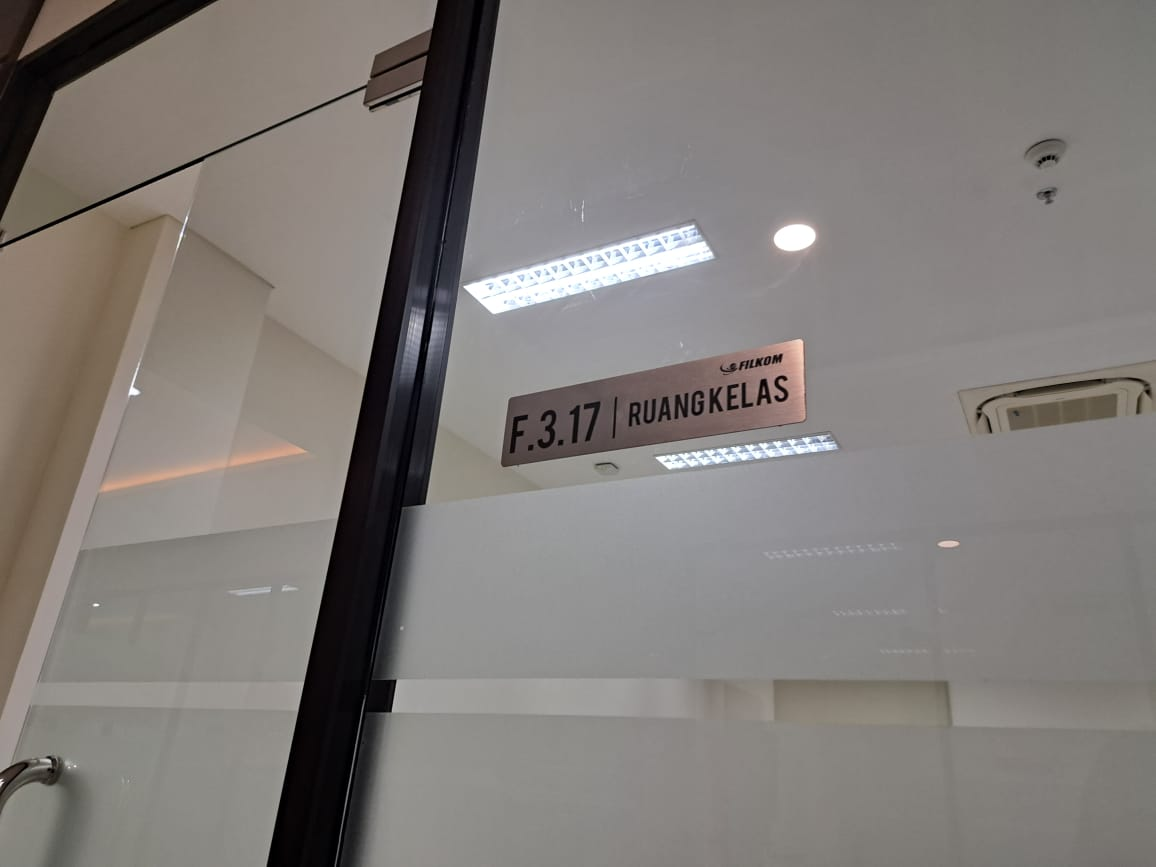ruangan: (495, 337, 807, 471)
